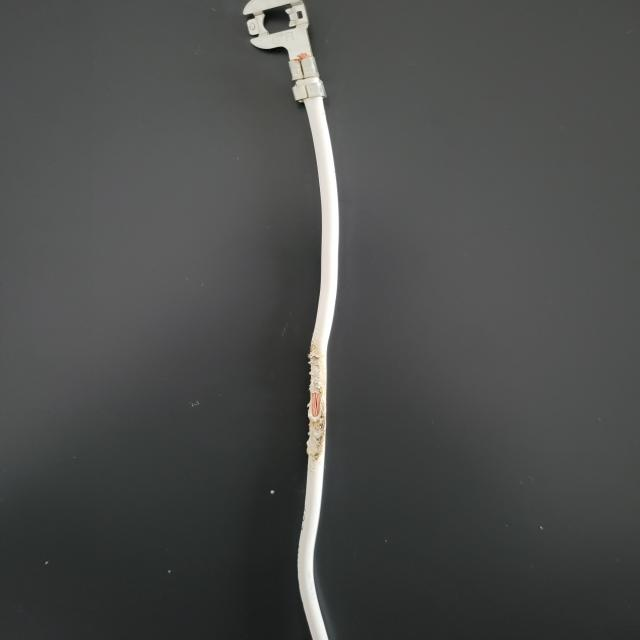defect: (237, 298, 422, 493)
